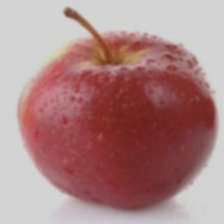apple: (42, 57, 198, 196)
